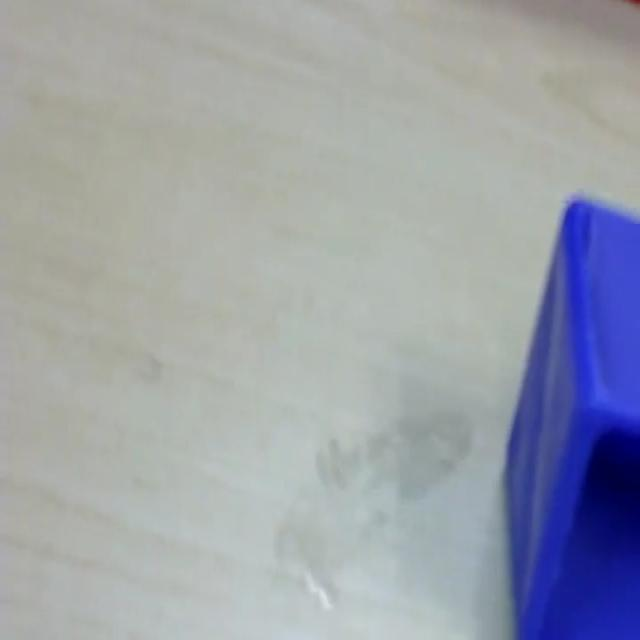blue_block: (502, 189, 638, 636)
